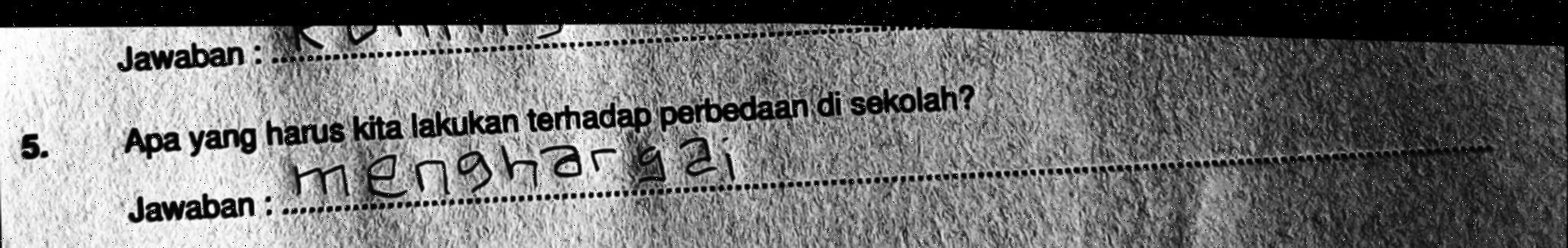jawaban: (286, 127, 745, 208)
